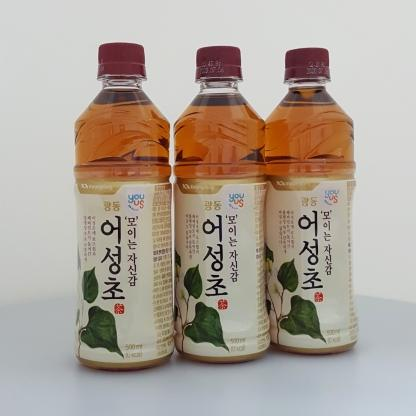--------500ml: (74, 42, 174, 369), (173, 46, 270, 364), (260, 48, 359, 355)
